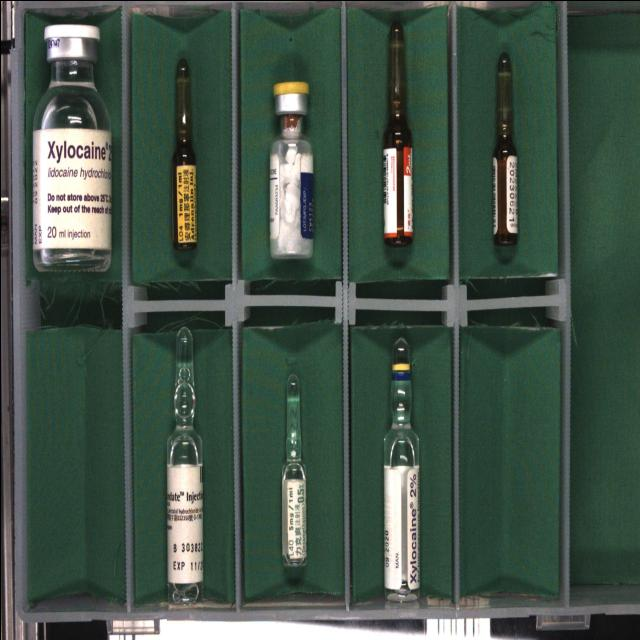Vials: (32, 23, 110, 270), (269, 80, 312, 257)
